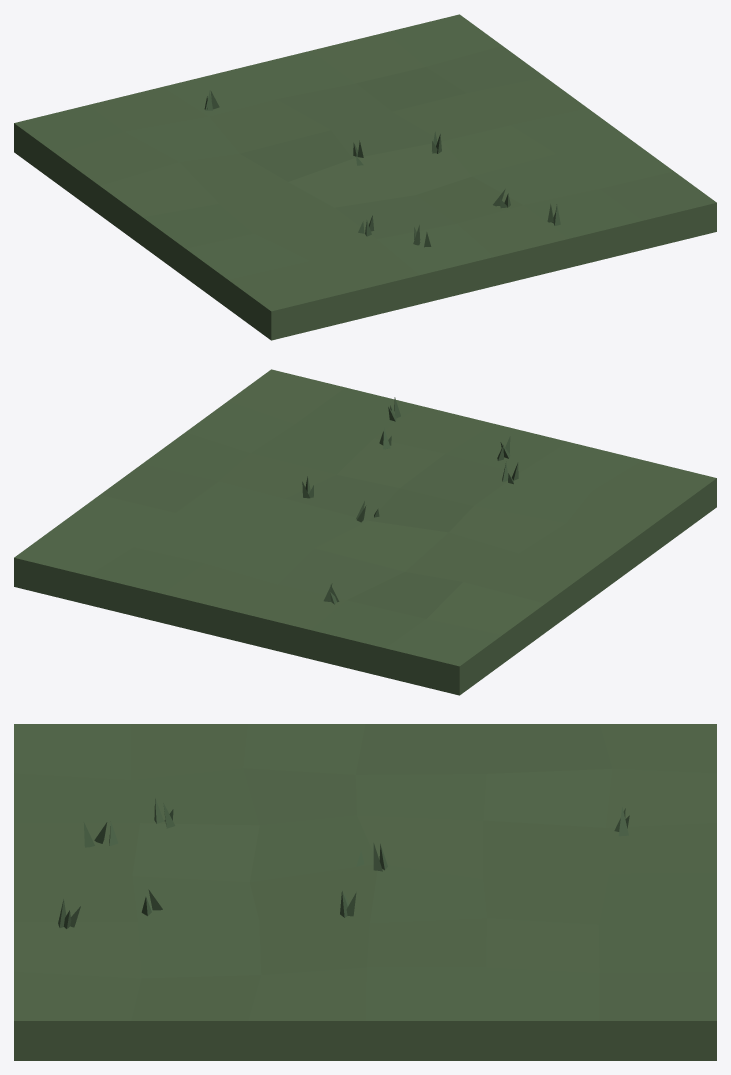
Rendered from floor_lawn.glb.
The picture shows the model from 3 angles, top to bottom: view 1: azimuth 30°, elevation 25°; view 2: azimuth 150°, elevation 25°; view 3: azimuth 270°, elevation 25°; orthographic projection. The views are drawn at different scales.
Visible parts, largest first — view 1: floor_lawn; view 2: floor_lawn; view 3: floor_lawn.
Part boxes in pixels (x1,y1,x2,y2): floor_lawn: [14, 14, 716, 340]; floor_lawn: [14, 369, 716, 695]; floor_lawn: [14, 724, 716, 1060].
Bounding box in the file's own units: 4 × 0.4292 × 4.
